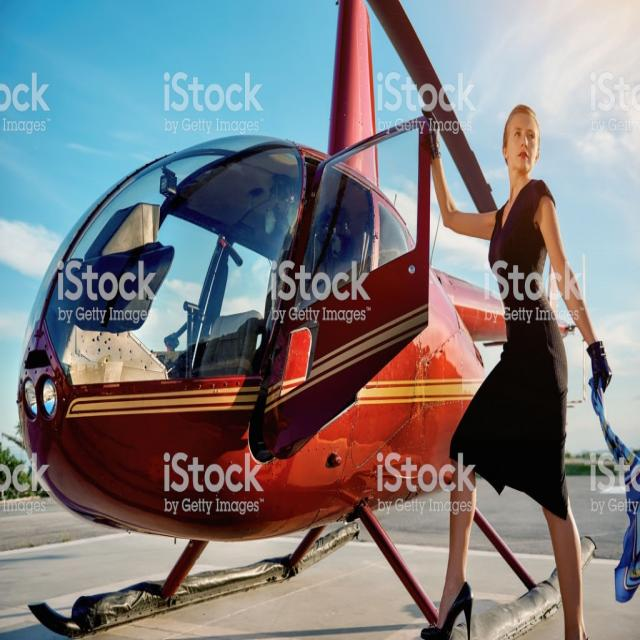helicopter: (17, 2, 600, 635)
